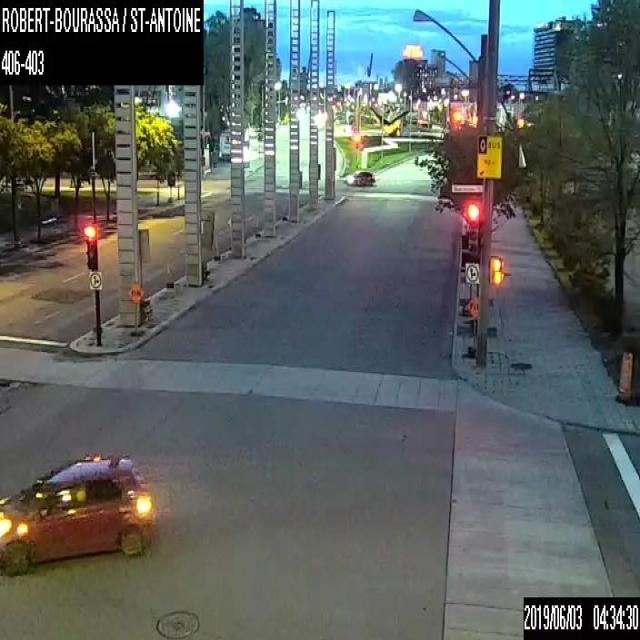construction: (614, 350, 635, 404), (127, 281, 144, 335), (466, 294, 479, 362)
vehicle: (0, 452, 153, 577), (346, 168, 374, 185)
